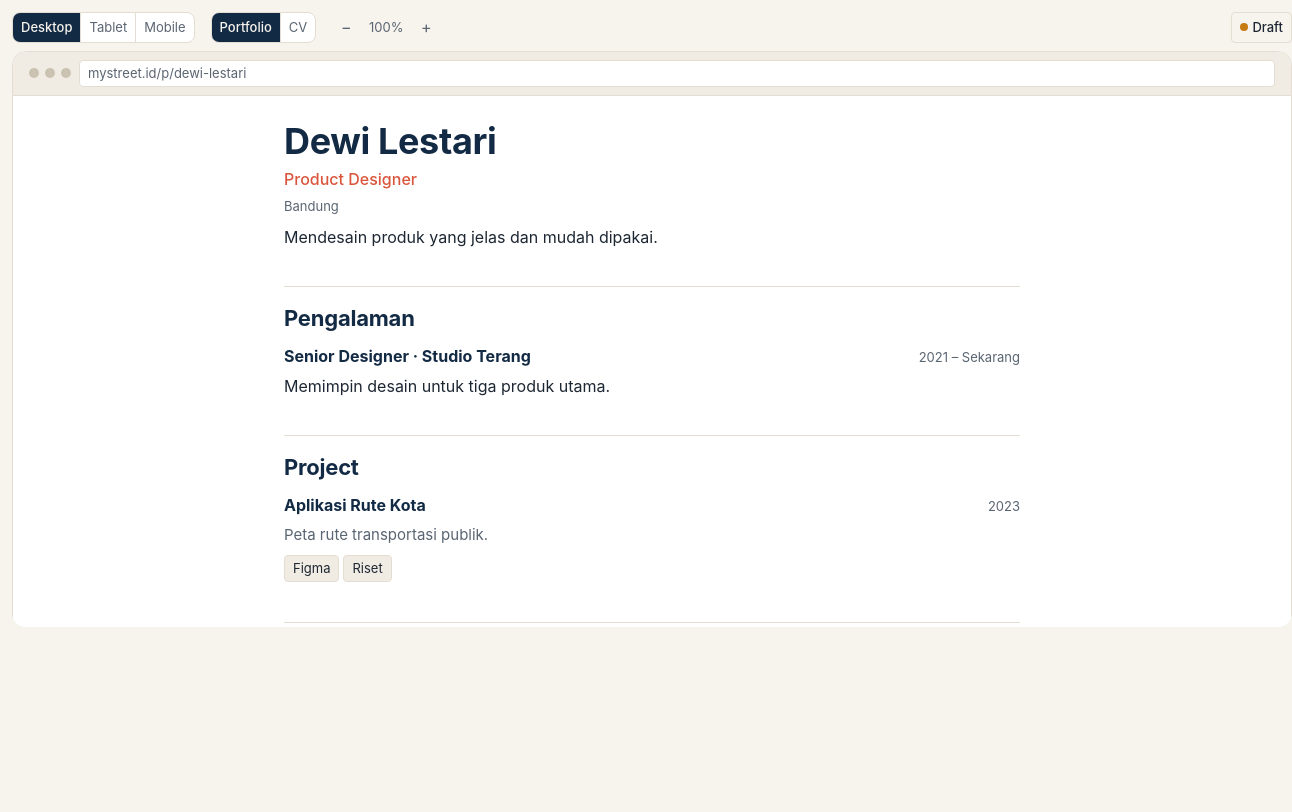
Test: LivePreview › offers device, mode, and zoom controls
This screenshot has width=1292, height=812.
Click the button "Mobile": point(165, 27) [136, 13, 194, 42]
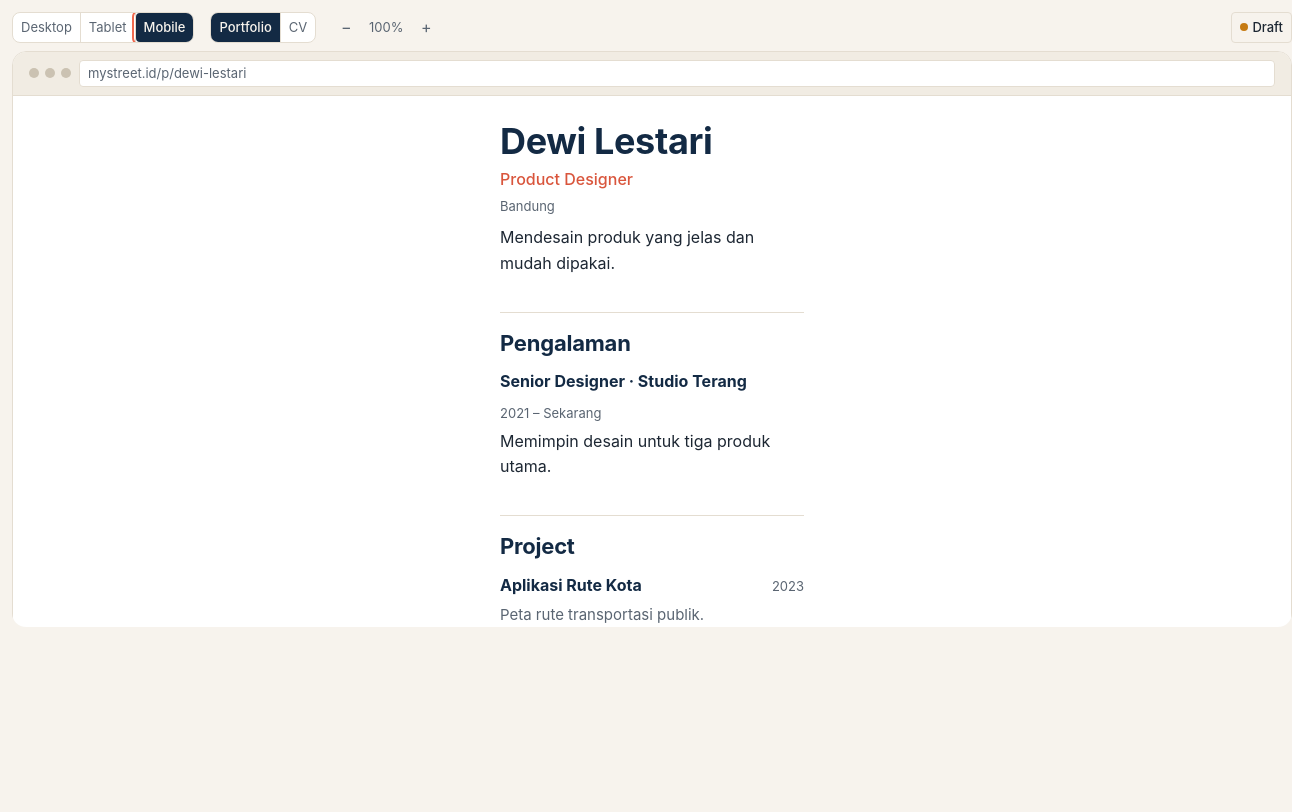
Expected: the button "Mobile" is pressed, [136, 13, 194, 42]
Click the button "CV": point(298, 27) [281, 13, 315, 42]
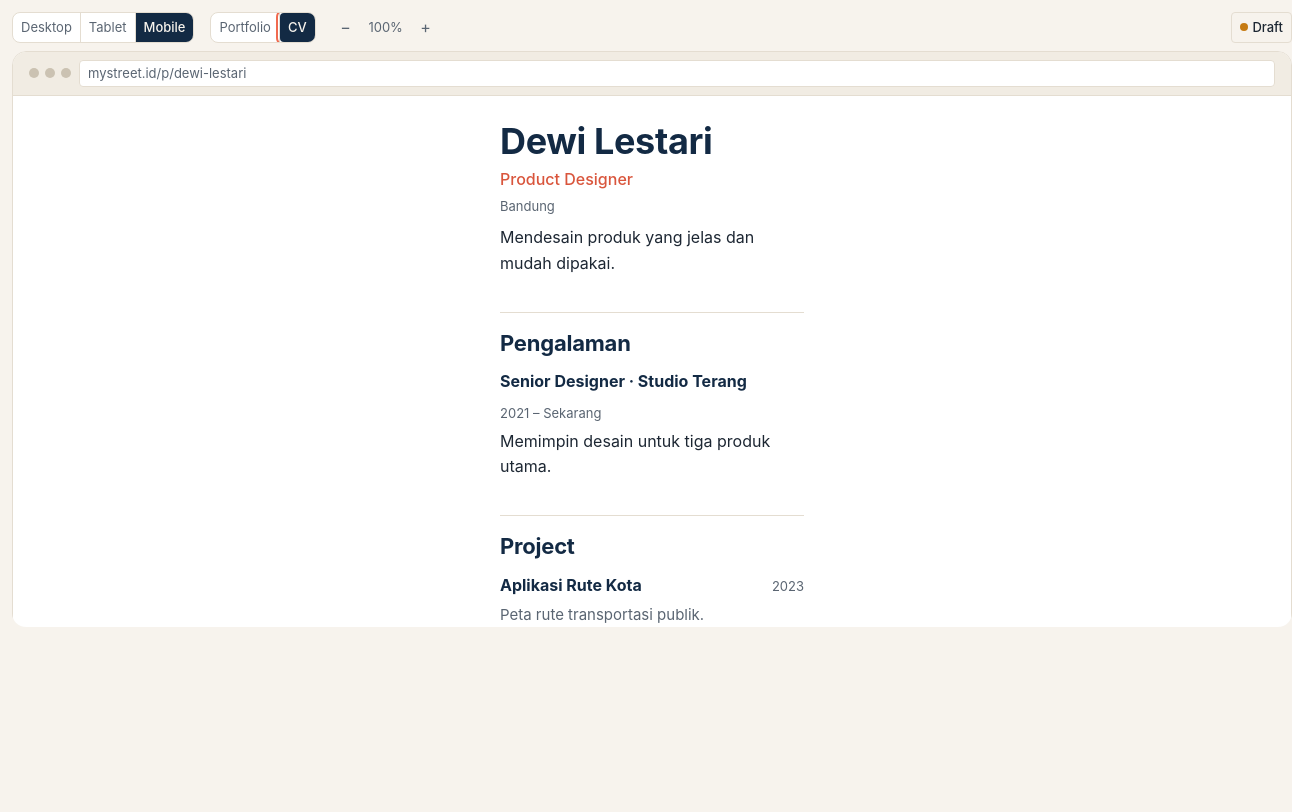
Expected: the text "Kolaborasi yang luar biasa." is not shown
Expected: the text "100%" is shown, [368, 19, 403, 35]
Click the button named "Perbesar pratinjau": point(426, 27) [412, 13, 440, 41]
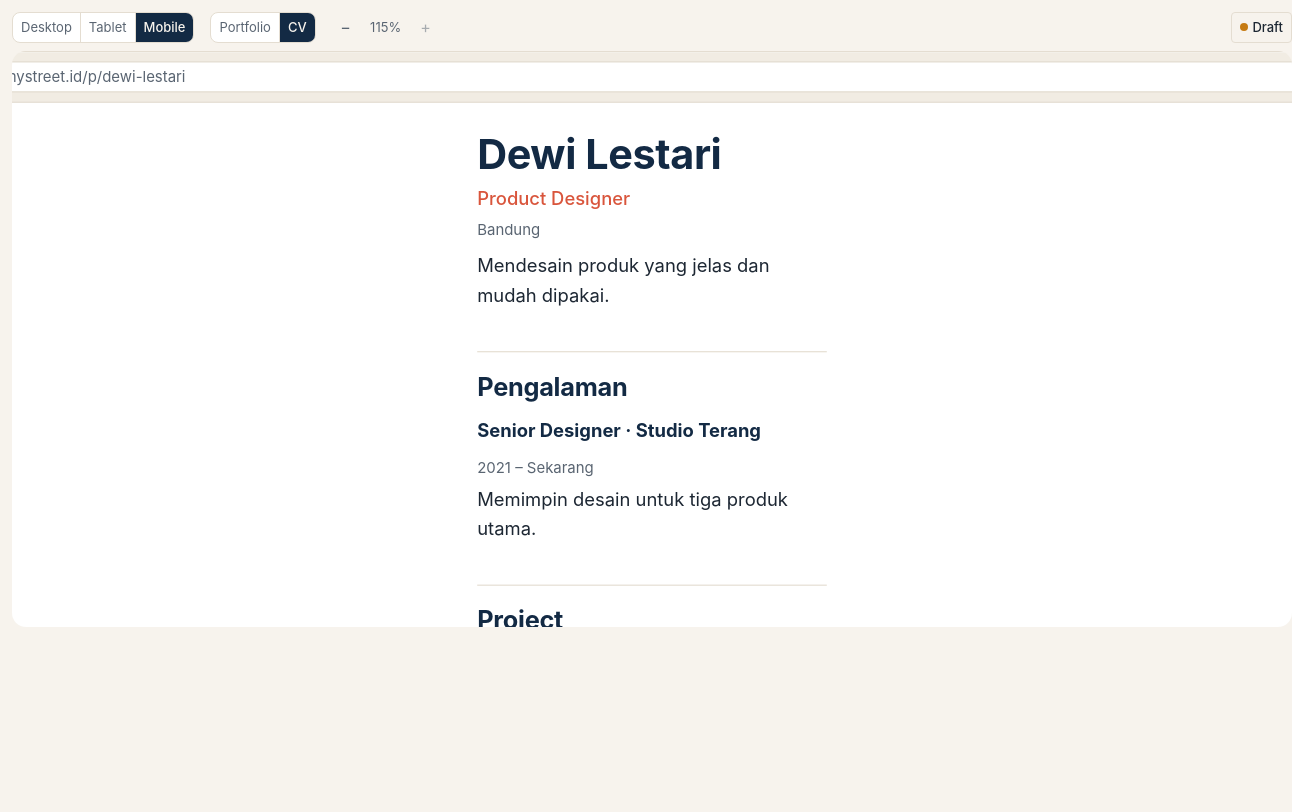
Expected: the text "115%" is shown, [370, 19, 401, 35]
Click the button named "Perkecil pratinjau": point(346, 27) [332, 13, 360, 41]
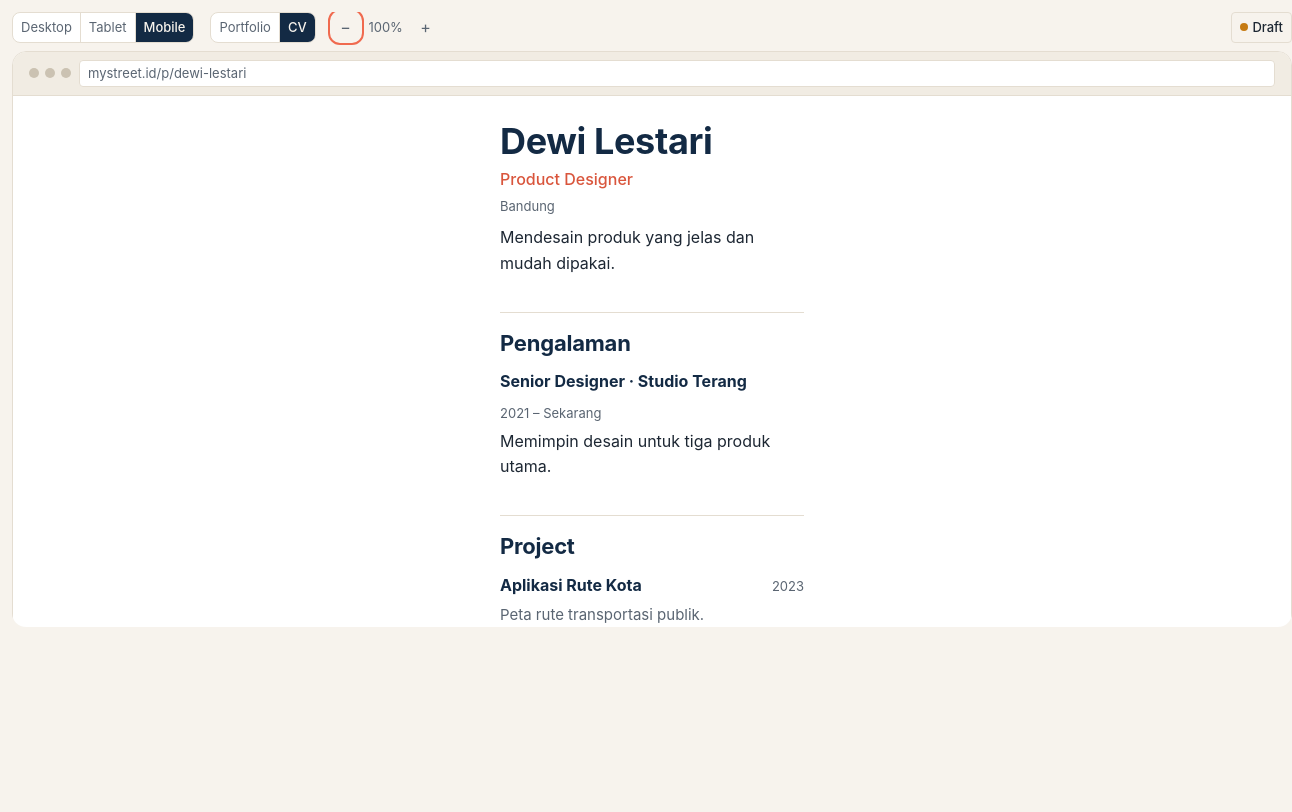
Click the button named "Perkecil pratinjau": point(346, 27) [332, 13, 360, 41]
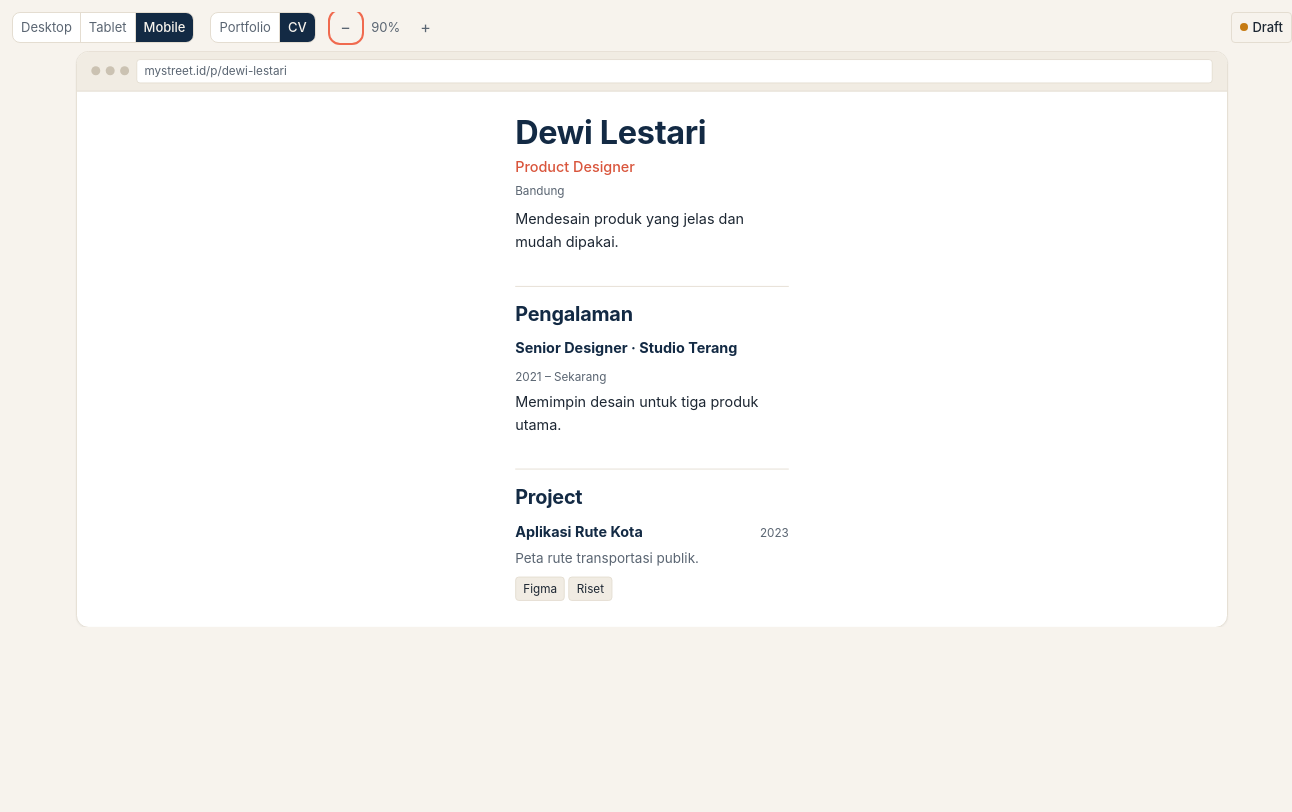
Expected: the text "90%" is shown, [371, 19, 400, 35]
